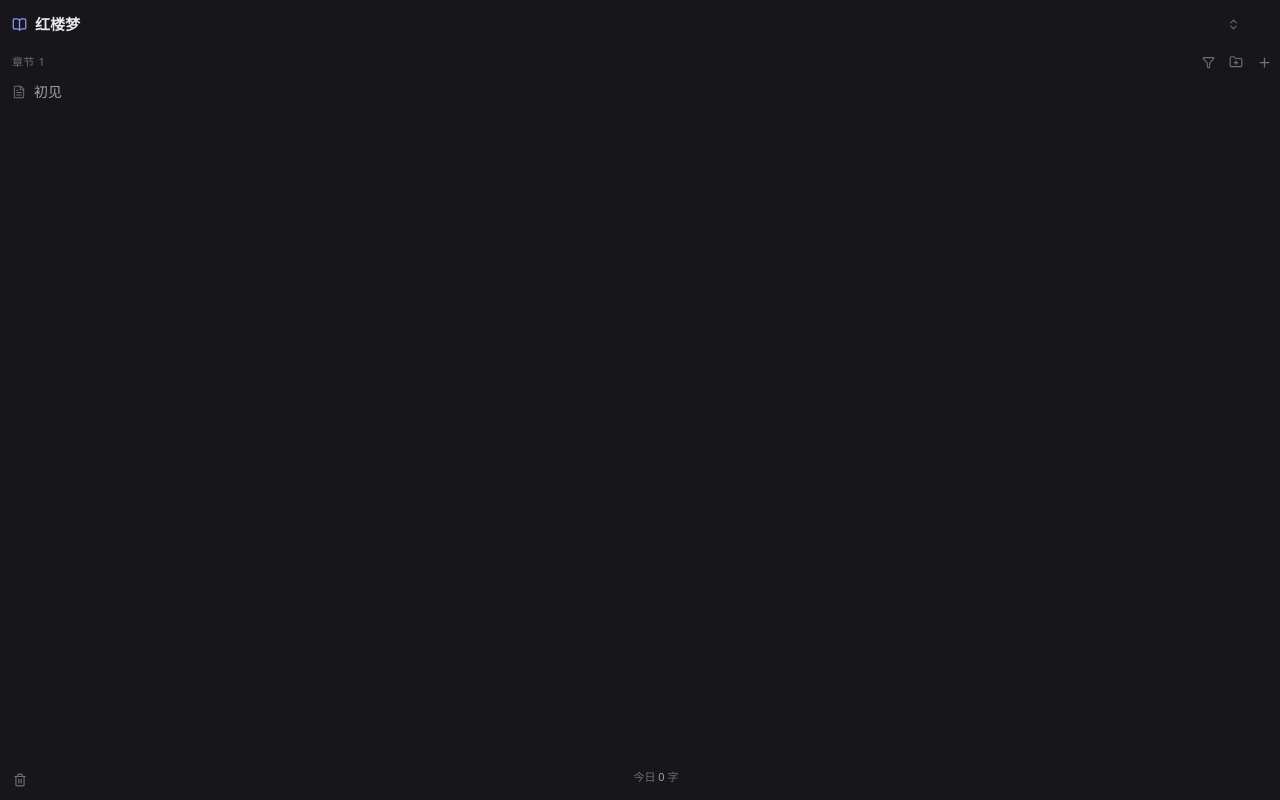
Test: Sidebar › F2 行内改名：Enter 提交调 renameChapter，Esc 取消不调
Press F2 in the list item "初见", box x1=12 y1=82 x2=62 y2=101
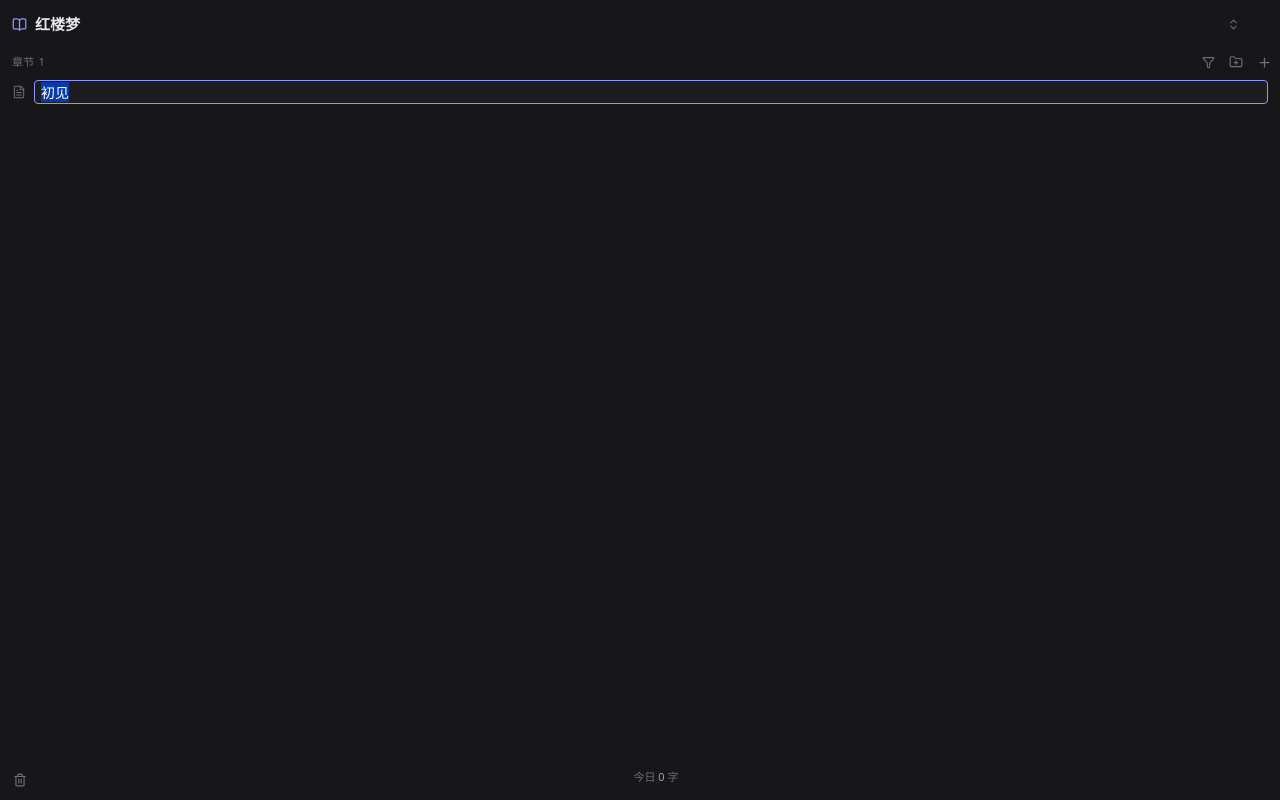
Replace the text in the field named "新名称" with "相逢" at [651, 92], box x1=34 y1=80 x2=1268 y2=104
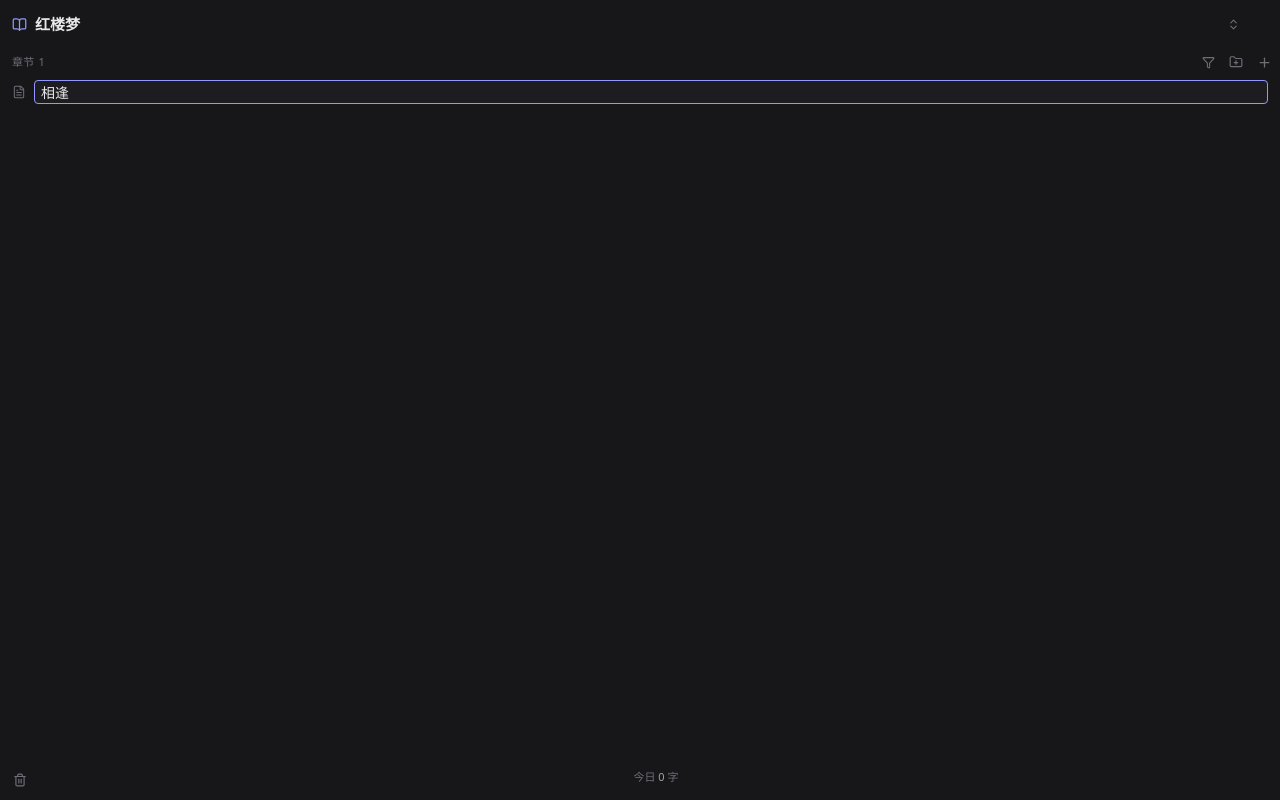
Press Escape in the field named "新名称", box x1=34 y1=80 x2=1268 y2=104
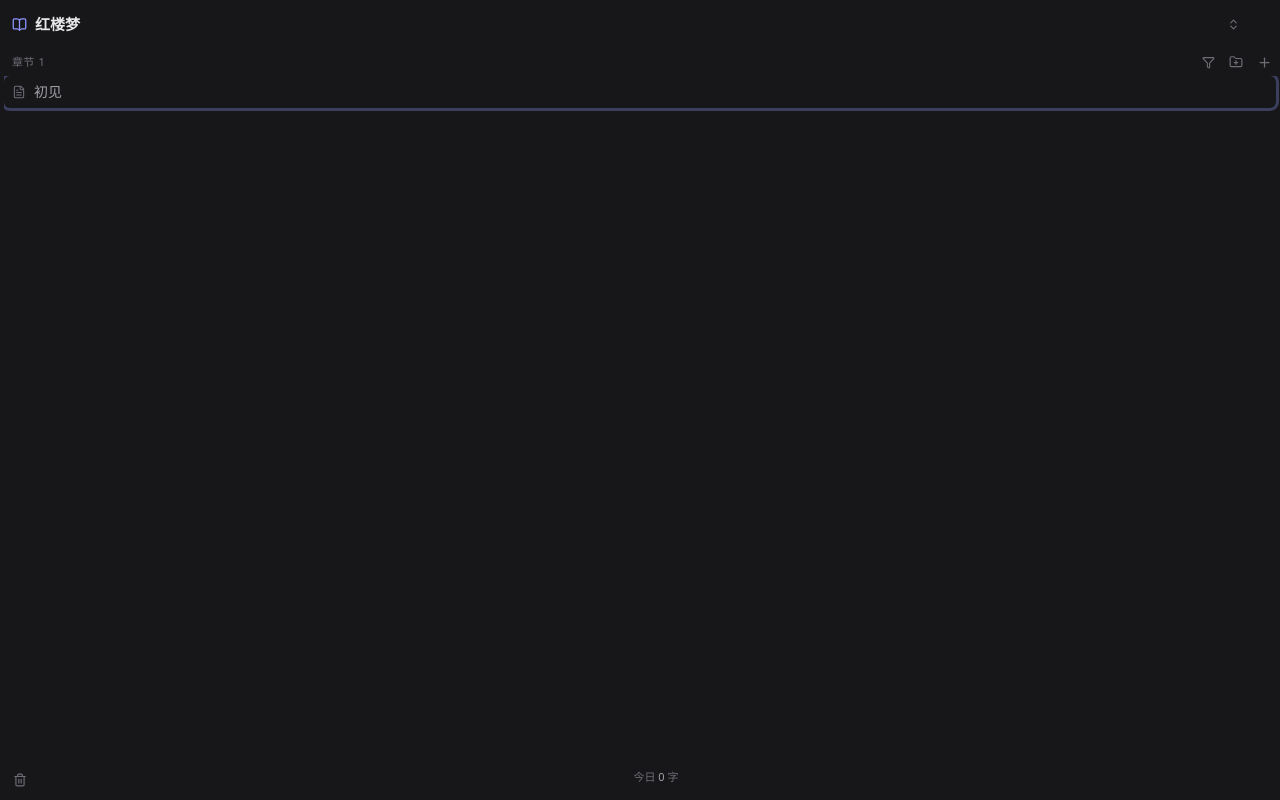
Press F2 in the list item "初见", box x1=4 y1=76 x2=1276 y2=108
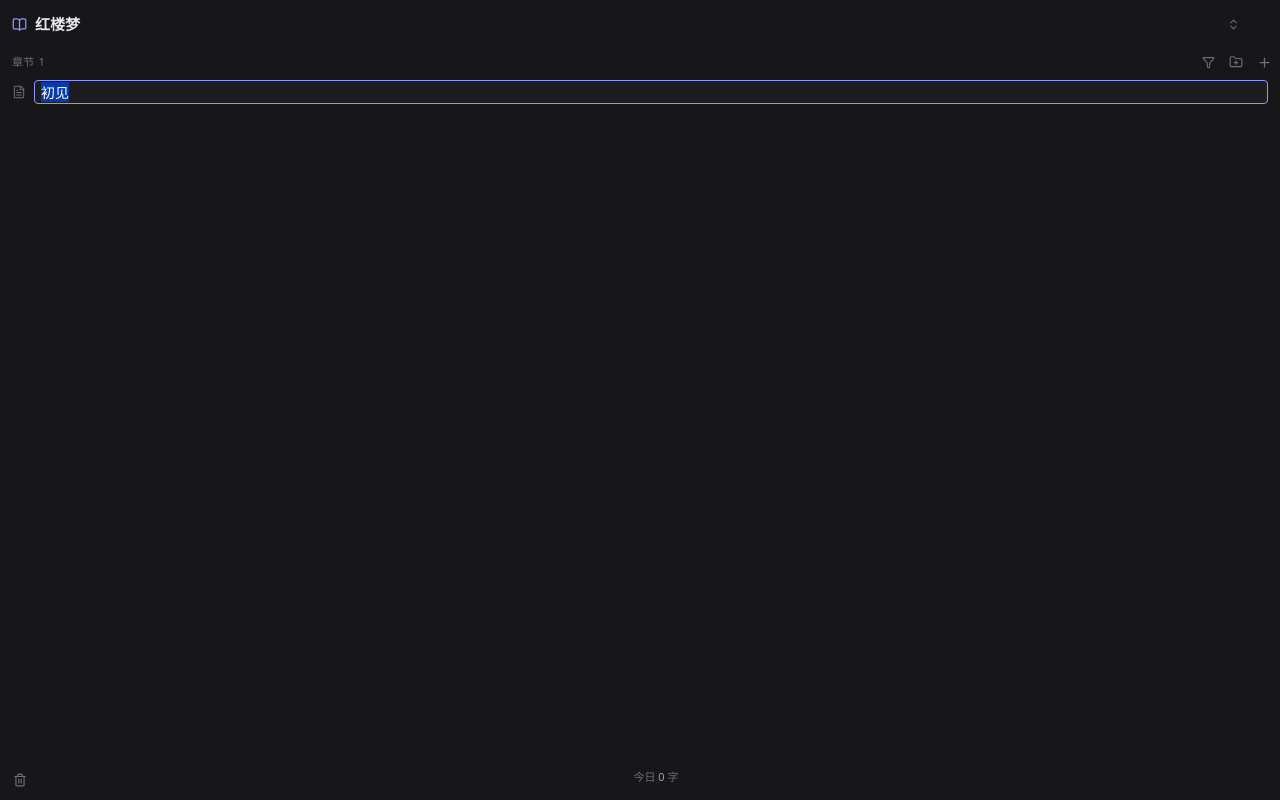
Replace the text in the field named "新名称" with "相逢" at [651, 92], box x1=34 y1=80 x2=1268 y2=104
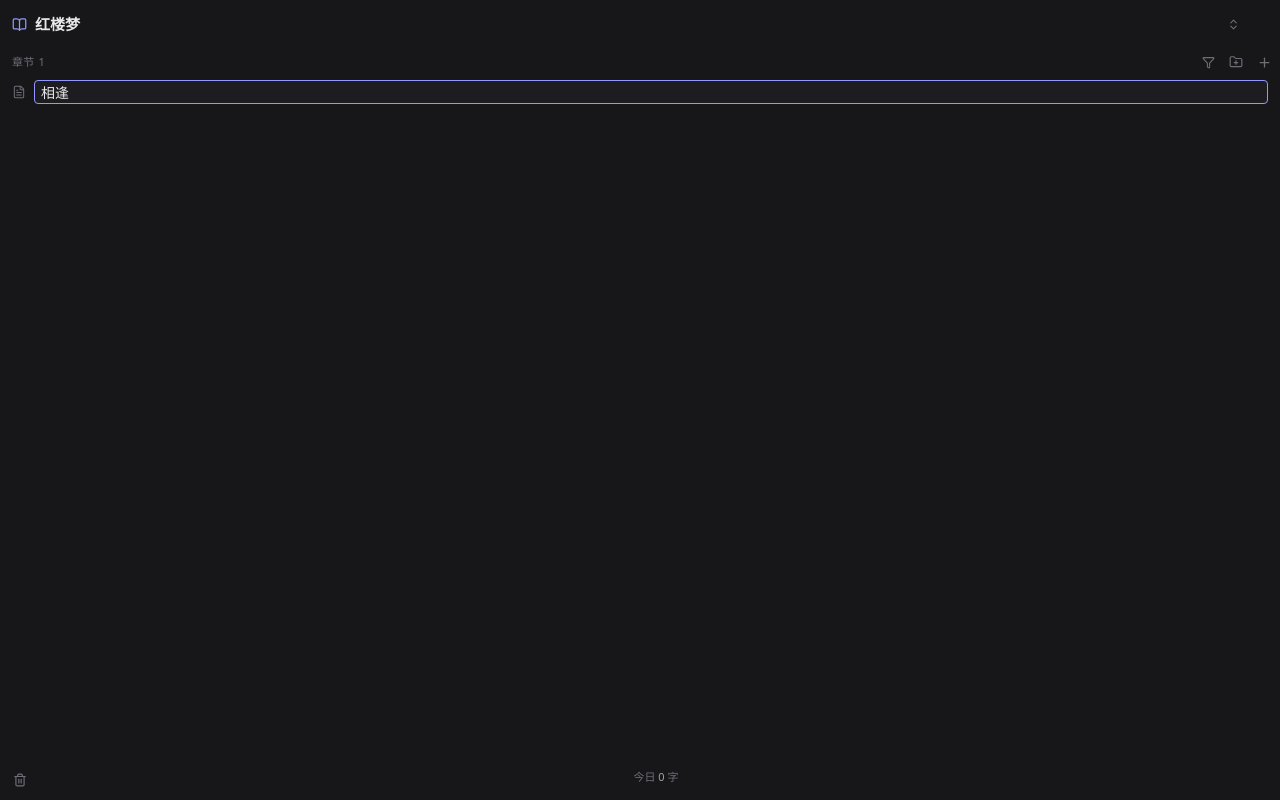
Press Enter in the field named "新名称", box x1=34 y1=80 x2=1268 y2=104
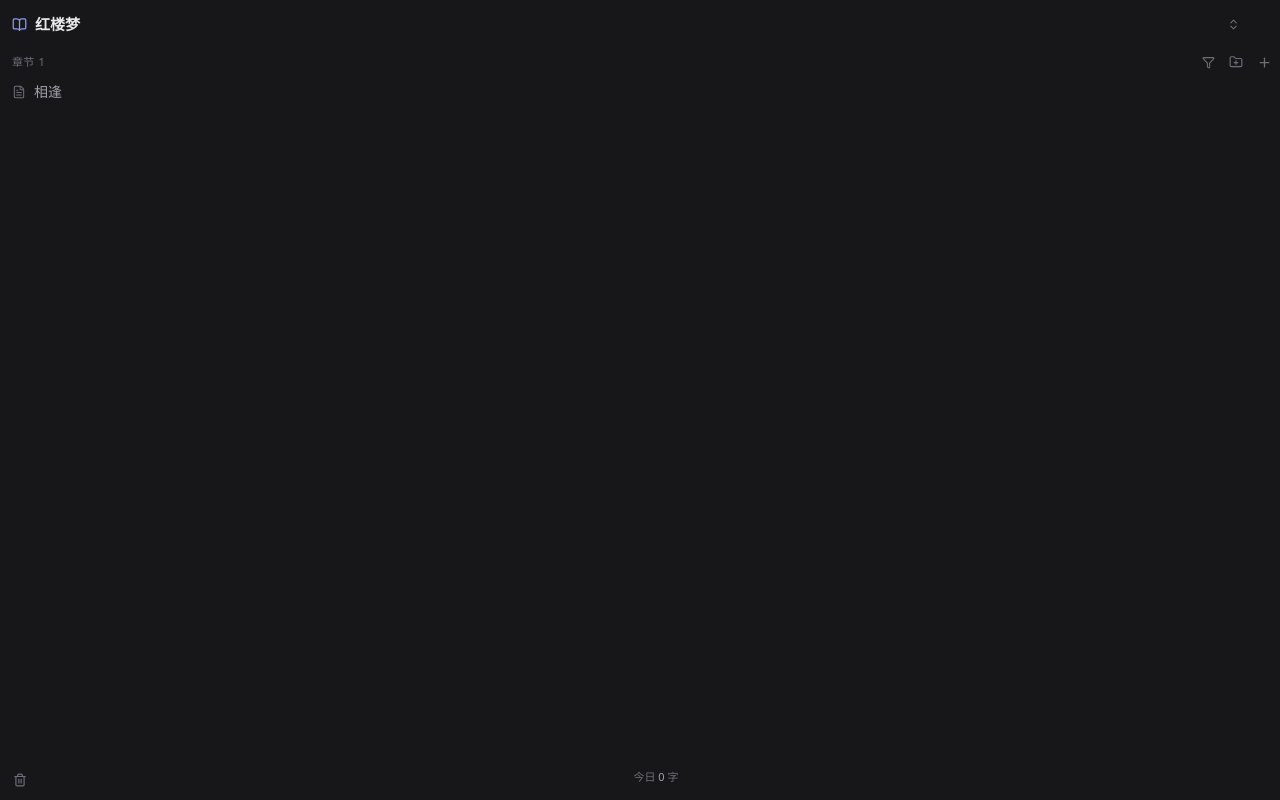
Expected: the text "相逢" is shown, x1=34 y1=82 x2=62 y2=101
